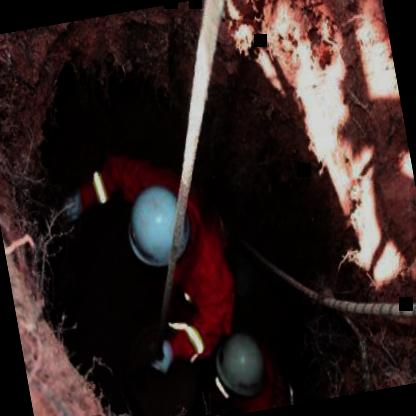helmet: (114, 178, 203, 289), (203, 328, 277, 409)
